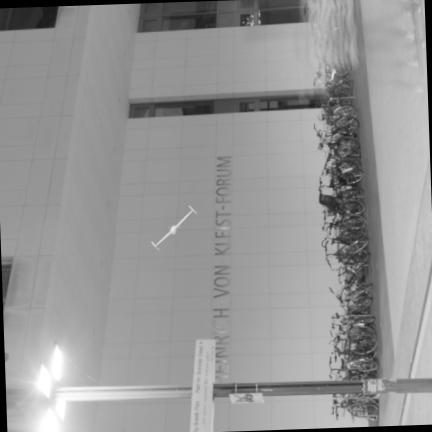Shahed: (151, 205, 196, 249)
